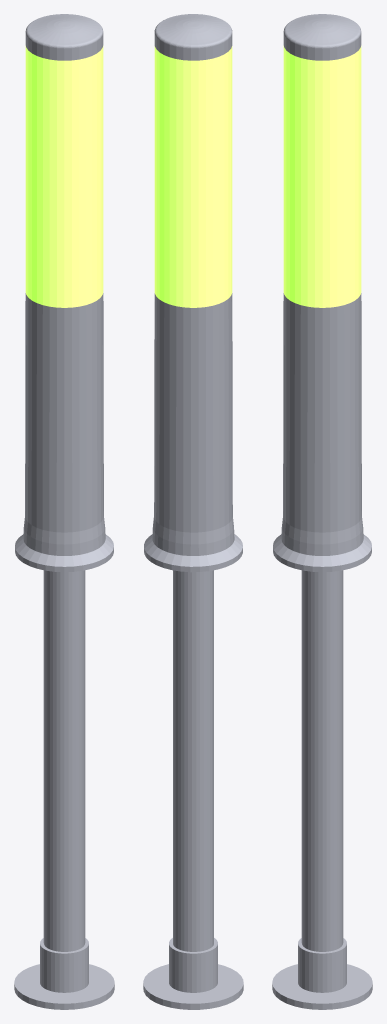
The picture shows the model from 3 angles, left to right: view 1: azimuth 90°, elevation 25°; view 2: azimuth 210°, elevation 25°; view 3: azimuth 270°, elevation 25°; orthographic projection.
Parts seen in each view (by area): view 1: 006; view 2: 006; view 3: 006.
Boxes of the visible parts, box(x1,y1,x2,y2) form: 006: box(14, 14, 114, 1009); 006: box(143, 14, 243, 1009); 006: box(272, 14, 372, 1009).
Bounding box in the file's own units: 0.0788 × 0.8334 × 0.0788.
